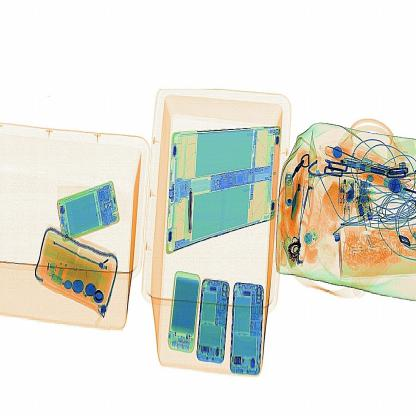knife: (169, 174, 206, 238)
